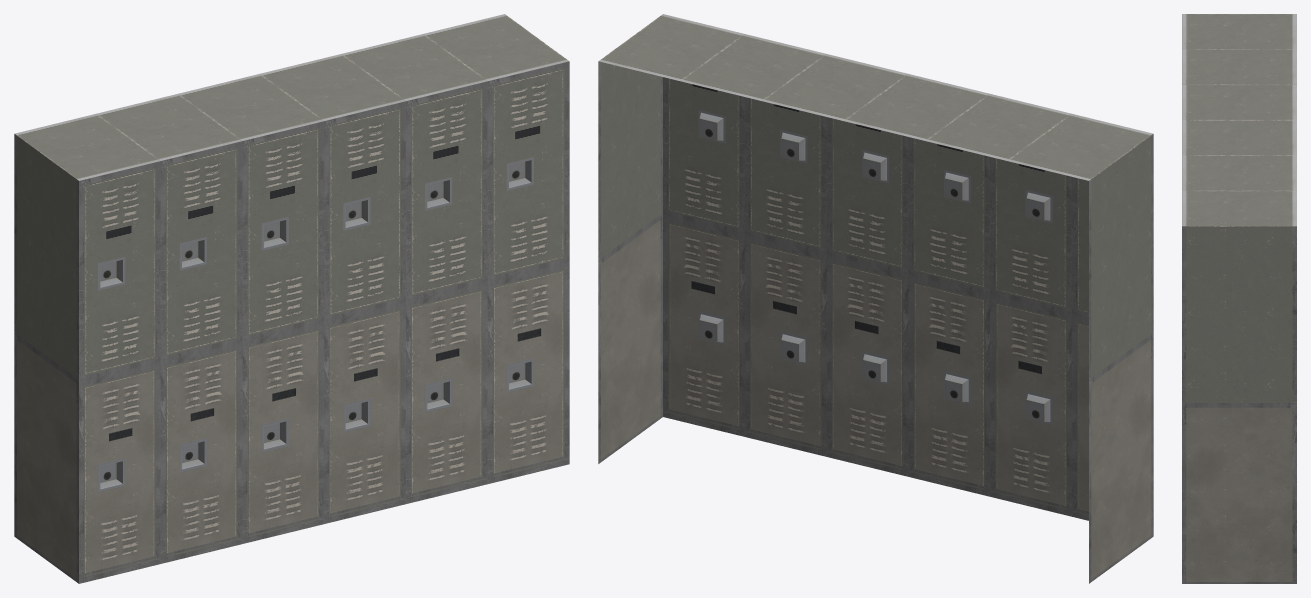
File: SM_Locker_01.fbx
The picture shows the model from 3 angles, left to right: view 1: azimuth 30°, elevation 25°; view 2: azimuth 150°, elevation 25°; view 3: azimuth 270°, elevation 25°; orthographic projection. The views are drawn at different scales.
Parts seen in each view (by area): view 1: SM_Locker_01; view 2: SM_Locker_01; view 3: SM_Locker_01.
Boxes of the visible parts, x1=… form: SM_Locker_01: x1=14, y1=14, x2=569, y2=583; SM_Locker_01: x1=598, y1=14, x2=1153, y2=583; SM_Locker_01: x1=1182, y1=14, x2=1296, y2=583.
Bounding box in the file's own units: 285 × 64.99 × 224.
Materials: 1 (1 with a texture image).
